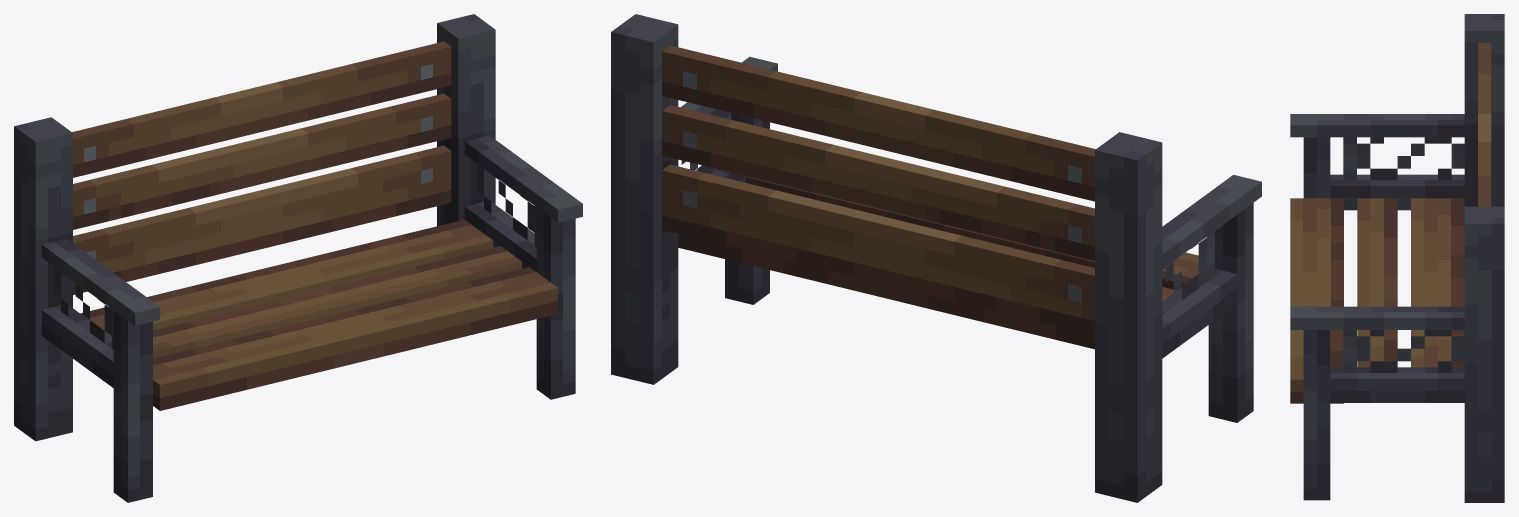
The model's file is chair.gltf.
3 renders of one model, left to right at view 1: azimuth 30°, elevation 25°; view 2: azimuth 150°, elevation 25°; view 3: azimuth 270°, elevation 25°, orthographic. The views are drawn at different scales.
Visible parts, largest first — view 1: 32fde8d8-3fe5-71ef-349e-89c3d49bf597, b978d23e-fed2-8950-222a-cd6dd7f4f8af, f9979b1a-2011-fc7d-0445-d8c0d4915ab2, 3e73b58e-55f9-b105-a530-6afa83b5c0c9, 702e3a76-170a-e071-3e84-9ed84075e9f8, 1fb1fc57-24df-a50b-9485-2feff196ae8f, cd54b9e6-2389-d35a-06c5-baa72fb16030, 9e606364-34ac-b0fc-e8d7-d3fc7c0191c3, 3ea4512e-7989-6ae6-a721-3f7d48669086, 1652a4c1-c918-be5f-7674-ca9fe4ddbb63, 2a34b605-1deb-04c3-36db-1b8912dea7f7, 47dff91e-5017-f6d0-dd64-ec33f6253992 (+4 smaller); view 2: b978d23e-fed2-8950-222a-cd6dd7f4f8af, 702e3a76-170a-e071-3e84-9ed84075e9f8, 3e73b58e-55f9-b105-a530-6afa83b5c0c9, f9979b1a-2011-fc7d-0445-d8c0d4915ab2, 9e606364-34ac-b0fc-e8d7-d3fc7c0191c3, 3ea4512e-7989-6ae6-a721-3f7d48669086, 1fb1fc57-24df-a50b-9485-2feff196ae8f, 2a34b605-1deb-04c3-36db-1b8912dea7f7, e6ed361b-d6d4-b3a5-8eea-7493eb860f36, 32fde8d8-3fe5-71ef-349e-89c3d49bf597, 1652a4c1-c918-be5f-7674-ca9fe4ddbb63, 9318ab78-5e18-ec6d-3c79-9fa6844869e2; view 3: 9e606364-34ac-b0fc-e8d7-d3fc7c0191c3, 32fde8d8-3fe5-71ef-349e-89c3d49bf597, 1fb1fc57-24df-a50b-9485-2feff196ae8f, 702e3a76-170a-e071-3e84-9ed84075e9f8, cd54b9e6-2389-d35a-06c5-baa72fb16030, 1652a4c1-c918-be5f-7674-ca9fe4ddbb63, bfbfd94d-68bf-d354-3ae2-5ce0a17b164a, 2a34b605-1deb-04c3-36db-1b8912dea7f7, 47dff91e-5017-f6d0-dd64-ec33f6253992, e6ed361b-d6d4-b3a5-8eea-7493eb860f36, 9318ab78-5e18-ec6d-3c79-9fa6844869e2, f9b7d767-adc0-97bf-dd77-0783060a80d3 (+2 smaller).
Part boxes in pixels (<box>): 32fde8d8-3fe5-71ef-349e-89c3d49bf597: <box>153,267,557,410</box>; b978d23e-fed2-8950-222a-cd6dd7f4f8af: <box>73,145,451,294</box>; f9979b1a-2011-fc7d-0445-d8c0d4915ab2: <box>73,93,451,229</box>; 3e73b58e-55f9-b105-a530-6afa83b5c0c9: <box>72,41,451,177</box>; 702e3a76-170a-e071-3e84-9ed84075e9f8: <box>14,117,72,441</box>; 1fb1fc57-24df-a50b-9485-2feff196ae8f: <box>80,219,493,336</box>; cd54b9e6-2389-d35a-06c5-baa72fb16030: <box>153,246,521,358</box>; 9e606364-34ac-b0fc-e8d7-d3fc7c0191c3: <box>437,14,495,226</box>; 3ea4512e-7989-6ae6-a721-3f7d48669086: <box>113,310,152,502</box>; 1652a4c1-c918-be5f-7674-ca9fe4ddbb63: <box>536,207,575,399</box>; 2a34b605-1deb-04c3-36db-1b8912dea7f7: <box>41,238,159,325</box>; 47dff91e-5017-f6d0-dd64-ec33f6253992: <box>464,135,582,222</box>; b978d23e-fed2-8950-222a-cd6dd7f4f8af: <box>662,164,1094,335</box>; 702e3a76-170a-e071-3e84-9ed84075e9f8: <box>1095,132,1162,502</box>; 3e73b58e-55f9-b105-a530-6afa83b5c0c9: <box>662,45,1095,201</box>; f9979b1a-2011-fc7d-0445-d8c0d4915ab2: <box>662,105,1094,260</box>; 9e606364-34ac-b0fc-e8d7-d3fc7c0191c3: <box>611,14,678,384</box>; 3ea4512e-7989-6ae6-a721-3f7d48669086: <box>1208,203,1253,422</box>; 1fb1fc57-24df-a50b-9485-2feff196ae8f: <box>678,234,1094,349</box>; 2a34b605-1deb-04c3-36db-1b8912dea7f7: <box>1162,174,1261,268</box>; e6ed361b-d6d4-b3a5-8eea-7493eb860f36: <box>1162,269,1237,358</box>; 32fde8d8-3fe5-71ef-349e-89c3d49bf597: <box>745,176,1206,289</box>; 1652a4c1-c918-be5f-7674-ca9fe4ddbb63: <box>725,113,769,304</box>; 9318ab78-5e18-ec6d-3c79-9fa6844869e2: <box>1162,231,1214,300</box>; 9e606364-34ac-b0fc-e8d7-d3fc7c0191c3: <box>1464,206,1504,502</box>; 32fde8d8-3fe5-71ef-349e-89c3d49bf597: <box>1290,198,1343,403</box>; 1fb1fc57-24df-a50b-9485-2feff196ae8f: <box>1411,198,1464,367</box>; 702e3a76-170a-e071-3e84-9ed84075e9f8: <box>1464,14,1504,206</box>; cd54b9e6-2389-d35a-06c5-baa72fb16030: <box>1357,198,1397,367</box>; 1652a4c1-c918-be5f-7674-ca9fe4ddbb63: <box>1303,330,1330,500</box>; bfbfd94d-68bf-d354-3ae2-5ce0a17b164a: <box>1330,367,1464,402</box>; 2a34b605-1deb-04c3-36db-1b8912dea7f7: <box>1290,114,1464,137</box>; 47dff91e-5017-f6d0-dd64-ec33f6253992: <box>1290,306,1464,329</box>; e6ed361b-d6d4-b3a5-8eea-7493eb860f36: <box>1330,174,1464,210</box>; 9318ab78-5e18-ec6d-3c79-9fa6844869e2: <box>1343,137,1464,180</box>; f9b7d767-adc0-97bf-dd77-0783060a80d3: <box>1343,330,1464,372</box>.
Bounding box in the file's own units: 2.31 × 1.44 × 1.
1 material, 1 textured.
